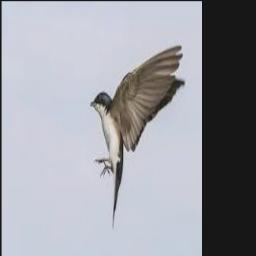Swallow: (91, 45, 186, 229)
